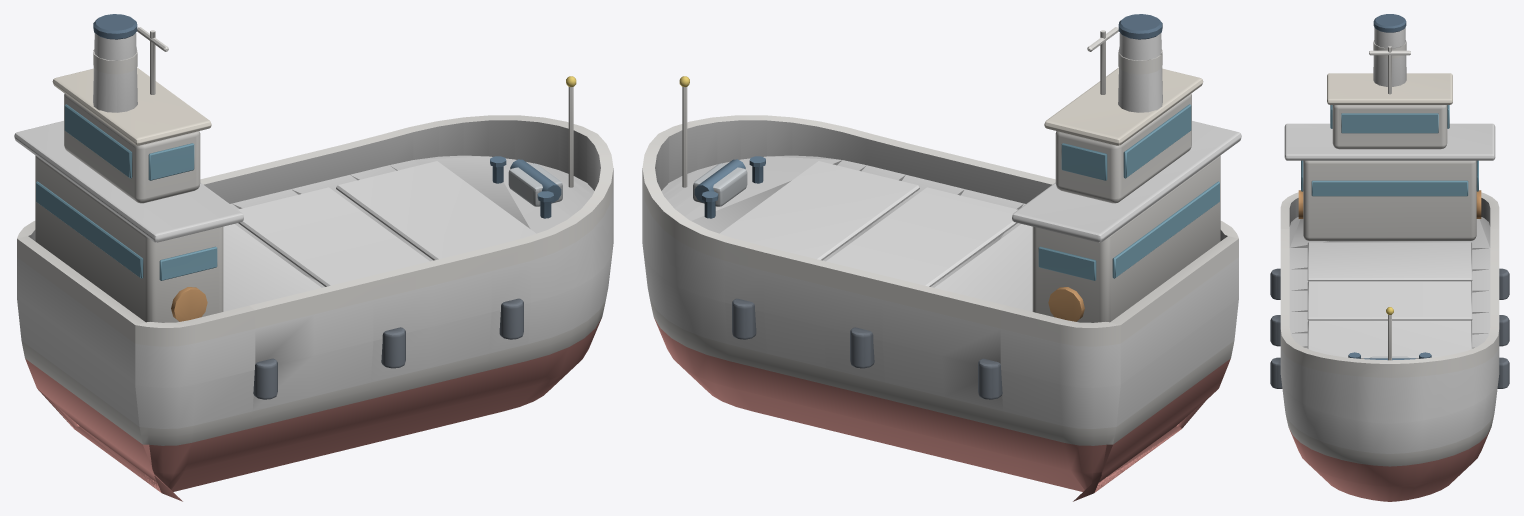
Rendered from ship_feeder.glb.
3 renders of one model, left to right at view 1: azimuth 30°, elevation 25°; view 2: azimuth 150°, elevation 25°; view 3: azimuth 270°, elevation 25°, orthographic. The views are drawn at different scales.
Parts seen in each view (by area): view 1: ship_feeder; view 2: ship_feeder; view 3: ship_feeder.
Part boxes in pixels (left/top/right/bottom): ship_feeder: left=14, top=14, right=613, bottom=501; ship_feeder: left=642, top=14, right=1241, bottom=501; ship_feeder: left=1270, top=14, right=1509, bottom=501.
Size of the model in its own units: 5.3 by 4.26 by 2.84.
